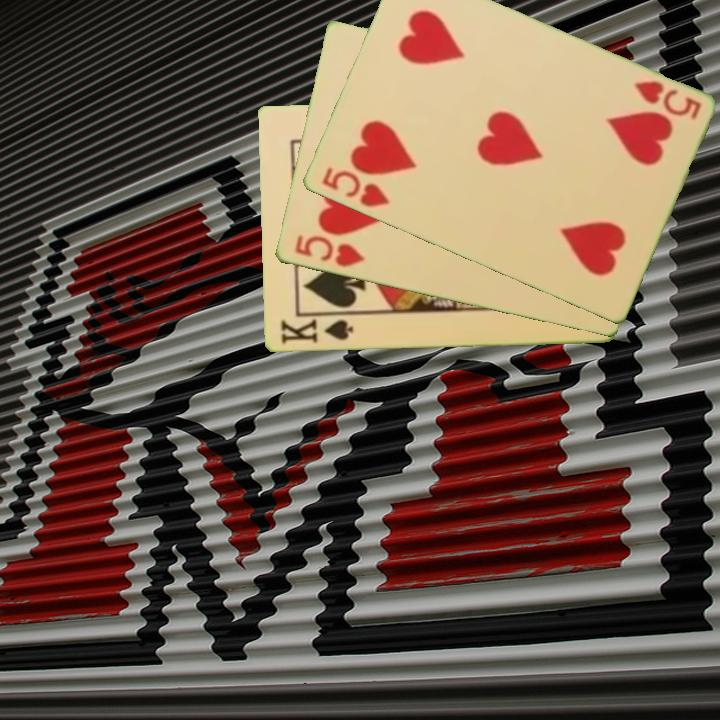5h: (318, 164, 392, 211), (630, 77, 704, 123), (290, 231, 368, 271)
Ks: (276, 312, 356, 348)
